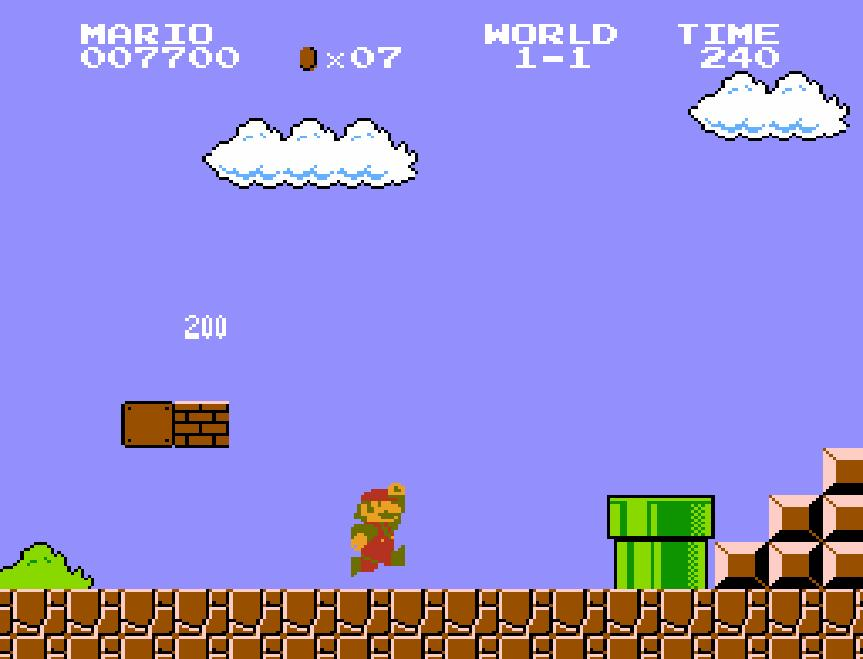big_mario: (348, 482, 406, 580)
